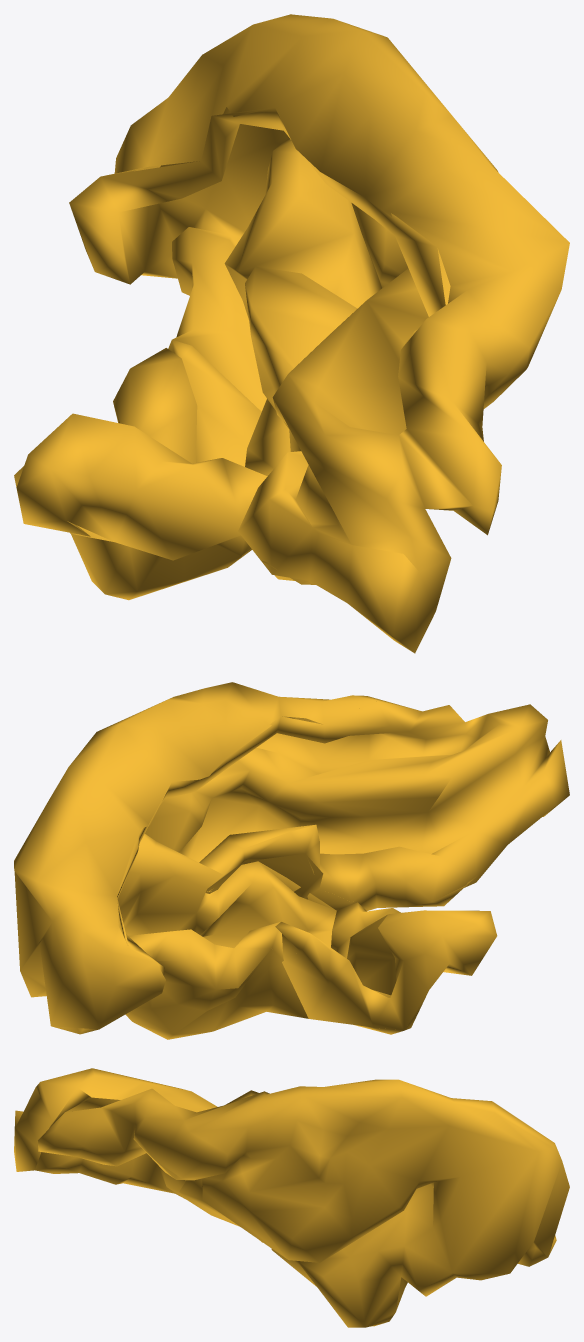
File: nervoso-lingual-gyrus-r.glb
The picture shows the model from 3 angles, top to bottom: view 1: azimuth 30°, elevation 25°; view 2: azimuth 150°, elevation 25°; view 3: azimuth 270°, elevation 25°; orthographic projection. The views are drawn at different scales.
Visible parts, largest first — view 1: Lingual gyrus.r; view 2: Lingual gyrus.r; view 3: Lingual gyrus.r.
Boxes of the visible parts, x1,y1,x2,y2 form: Lingual gyrus.r: [14, 14, 569, 653]; Lingual gyrus.r: [14, 682, 569, 1039]; Lingual gyrus.r: [14, 1068, 569, 1327].
Bounding box in the file's own units: 0.0338 × 0.0314 × 0.0609.
